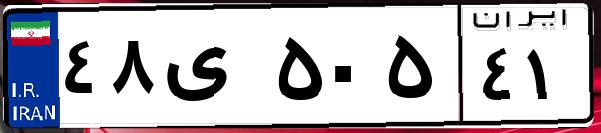0: (330, 28, 385, 110)
1: (525, 38, 570, 115)
4: (57, 26, 110, 100), (475, 38, 525, 113)
5: (270, 28, 330, 110), (385, 28, 445, 110)
8: (110, 28, 158, 98)
ی: (158, 20, 270, 120)
